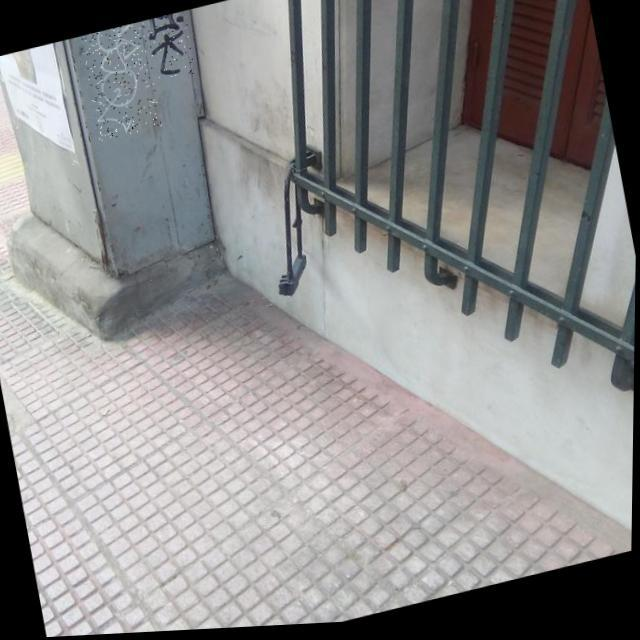-: (80, 22, 164, 143), (146, 12, 200, 84)
